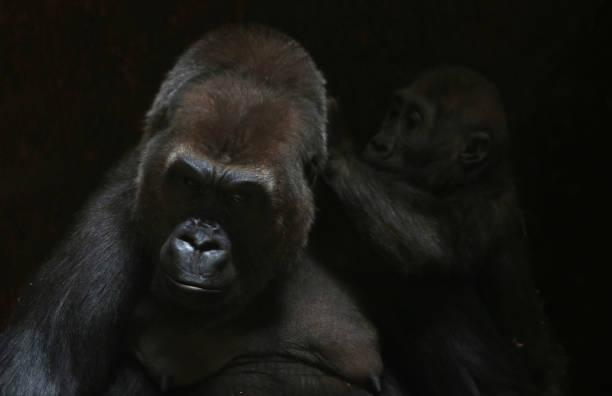gorille_Autres: (11, 10, 338, 396), (353, 18, 595, 396)
